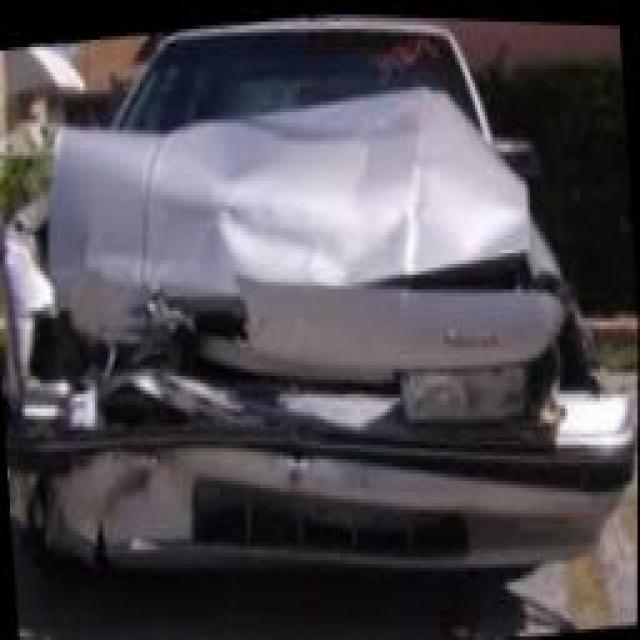Bonnet: (48, 81, 568, 388)
Bumper: (4, 414, 638, 567)
Fender: (526, 245, 638, 420), (0, 184, 58, 420)
